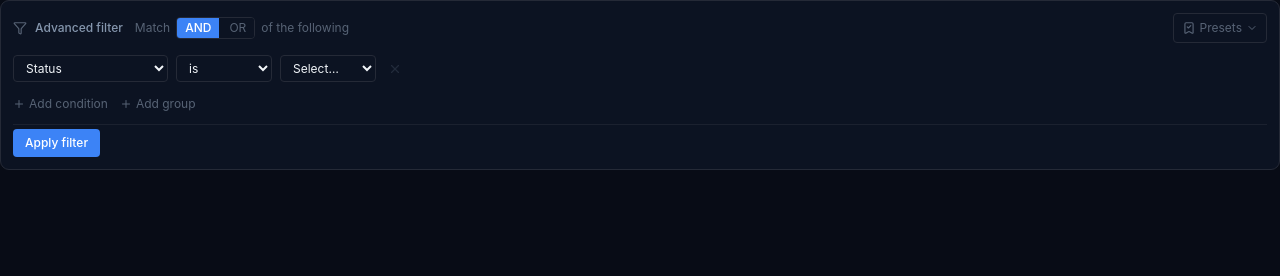
Test case: FilterBuilder › adds a sub-group when 'Add group' is clicked
The width and height of the screenshot is (1280, 276).
Click the button "Add group".
click(158, 104)  # box [120,96,196,112]
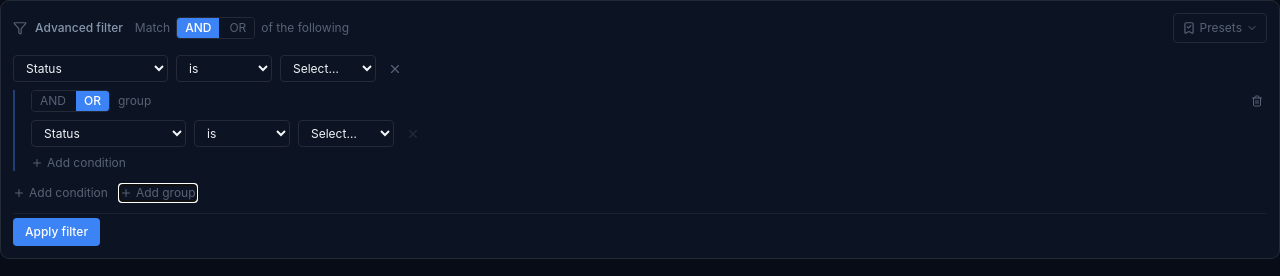
Check: the text "group" is shown, box [118,93,151,109]
